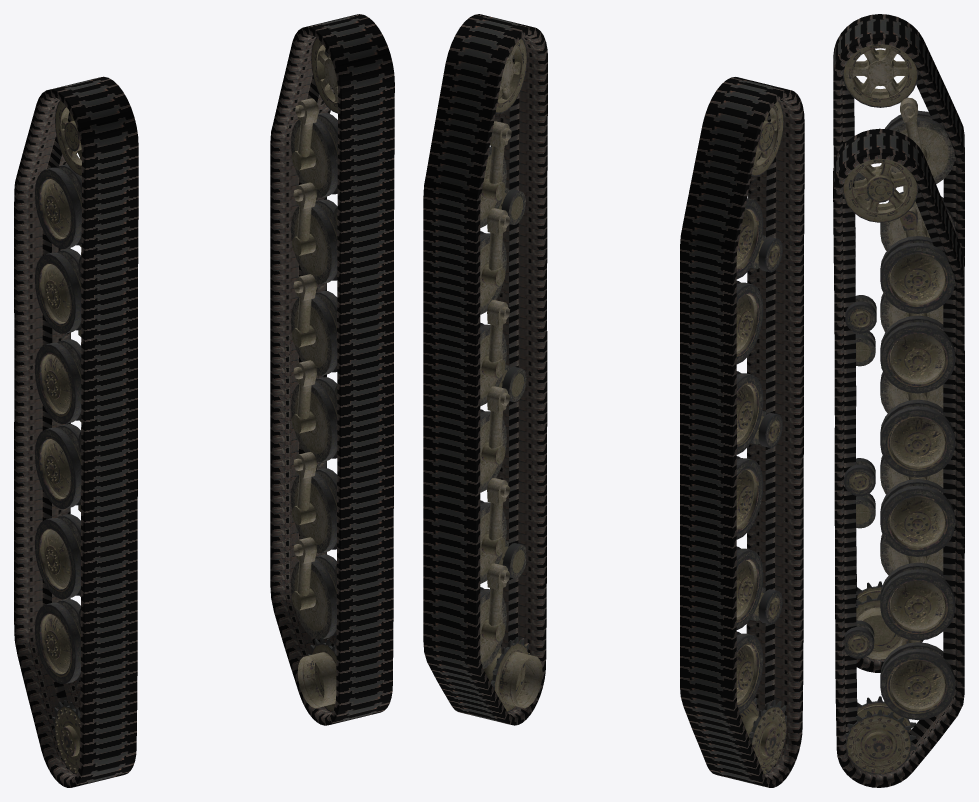
Rendered from Chassis.glb.
The picture shows the model from 3 angles, left to right: view 1: azimuth 30°, elevation 25°; view 2: azimuth 150°, elevation 25°; view 3: azimuth 270°, elevation 25°; orthographic projection. The views are drawn at different scales.
Visible parts, largest first — view 1: set_0_group_0, set_1_group_0, set_3_group_0, set_2_group_0; view 2: set_0_group_0, set_1_group_0, set_3_group_0, set_2_group_0; view 3: set_3_group_0, set_1_group_0, set_2_group_0, set_0_group_0.
Part boxes in pixels (x1,y1,x2,y2): set_0_group_0: (14,76,138,787); set_1_group_0: (270,14,394,725); set_3_group_0: (291,37,338,712); set_2_group_0: (35,100,81,774); set_0_group_0: (680,77,804,787); set_1_group_0: (423,14,547,725); set_3_group_0: (480,38,542,712); set_2_group_0: (736,100,786,774); set_3_group_0: (843,159,955,774); set_1_group_0: (833,128,964,787); set_2_group_0: (843,44,955,659); set_0_group_0: (833,14,964,672).
Size of the model in its own units: 2.94 by 6.28 by 1.18.
Materials: 4 (4 with a texture image).
